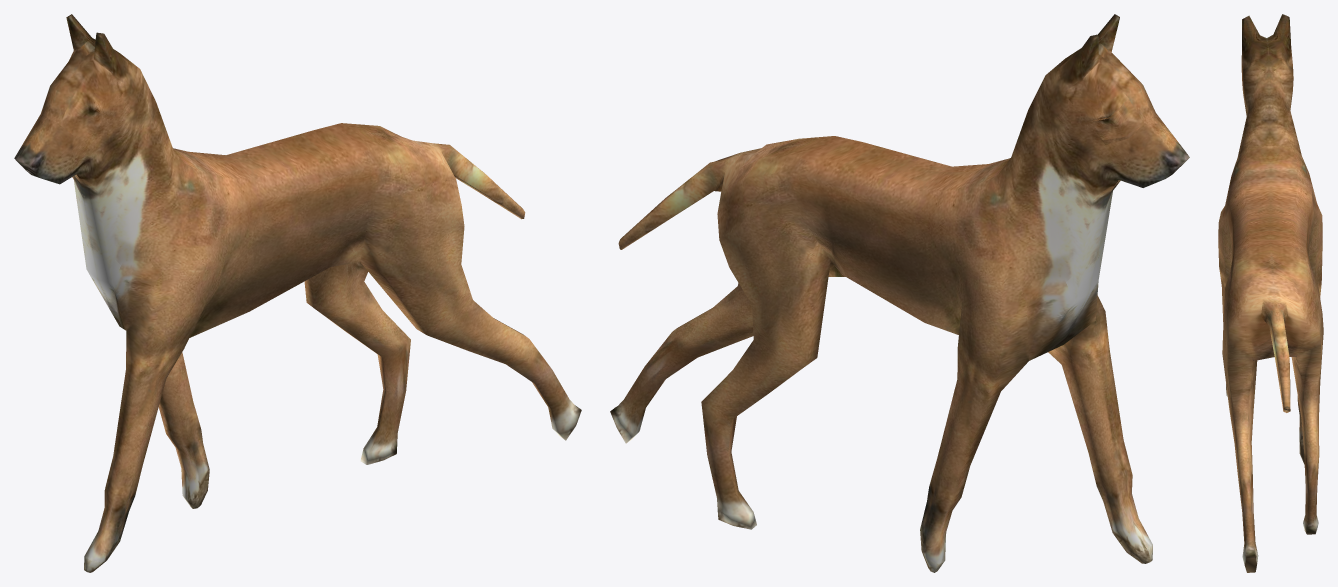
Rendered from dogo.obj.
The picture shows the model from 3 angles, left to right: view 1: azimuth 30°, elevation 25°; view 2: azimuth 150°, elevation 25°; view 3: azimuth 270°, elevation 25°; orthographic projection. The views are drawn at different scales.
Visible parts, largest first — view 1: Mesh; view 2: Mesh; view 3: Mesh.
Part boxes in pixels (x1,y1,x2,y2): Mesh: (14,14,581,572); Mesh: (610,14,1189,572); Mesh: (1218,14,1323,572).
Size of the model in its own units: 1.36 by 1.26 by 0.3005.
1 material, 1 textured.
